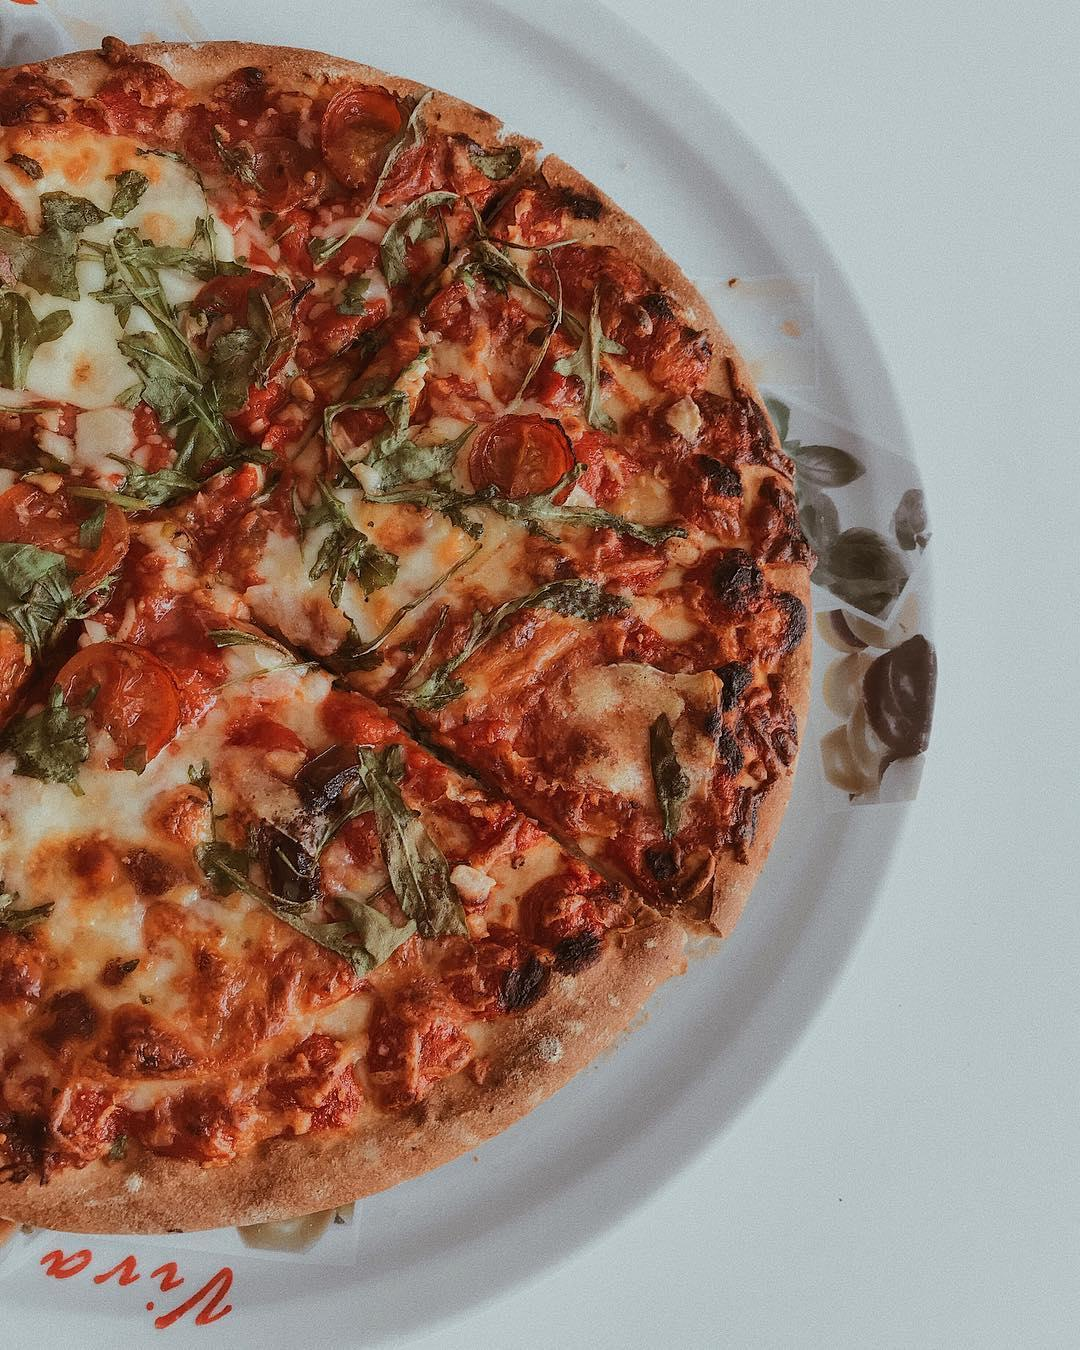Arugula: (116, 237, 231, 503), (393, 576, 617, 711), (350, 746, 472, 948), (216, 827, 350, 968), (310, 485, 378, 587)
Pizza: (0, 47, 809, 1238)
Tomatoes: (231, 295, 385, 423), (47, 645, 182, 765), (0, 486, 129, 584), (471, 414, 579, 512), (322, 89, 407, 183), (51, 1078, 122, 1162), (220, 705, 307, 756), (169, 1101, 236, 1162), (0, 620, 36, 731), (316, 693, 381, 746)
